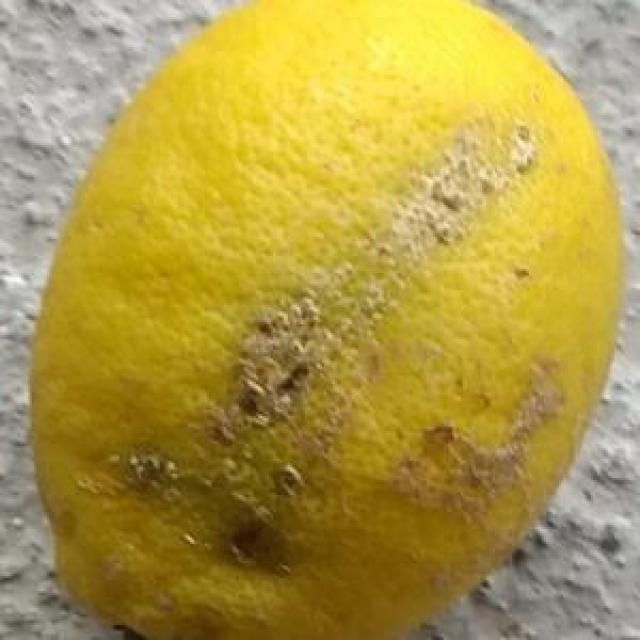lemon: (36, 1, 623, 640)
